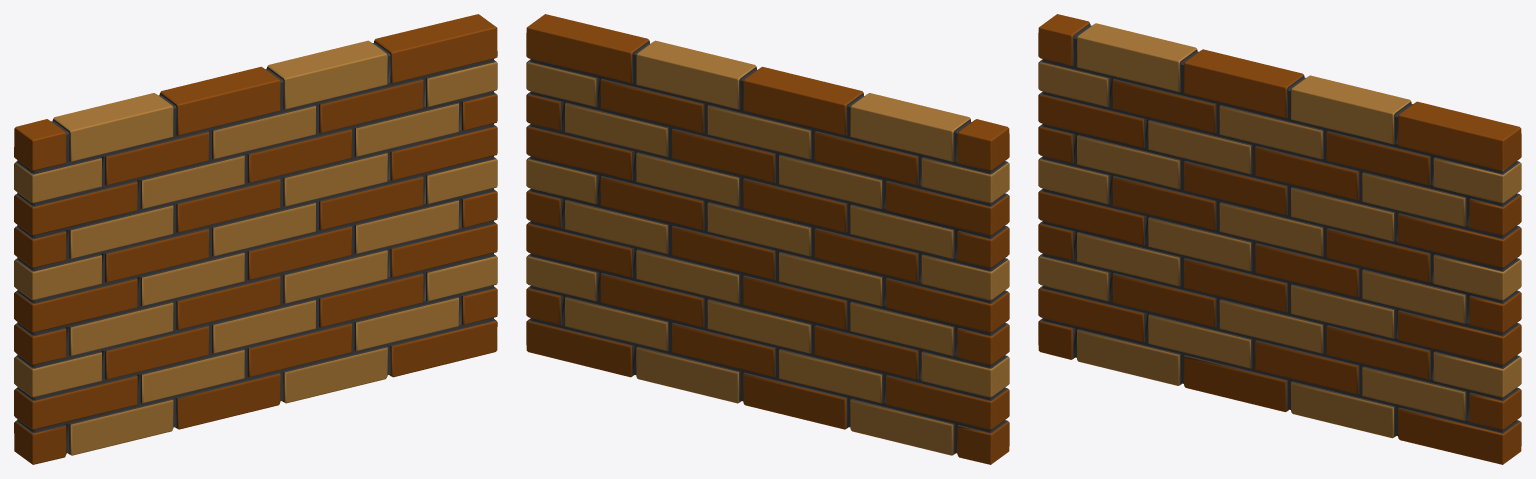
File: WallBrick.FBX
The picture shows the model from 3 angles, left to right: view 1: azimuth 30°, elevation 25°; view 2: azimuth 150°, elevation 25°; view 3: azimuth 330°, elevation 25°; orthographic projection.
Visible parts, largest first — view 1: Wall_Brick; view 2: Wall_Brick; view 3: Wall_Brick.
Part boxes in pixels (x1,y1,x2,y2): Wall_Brick: (14, 14, 497, 464); Wall_Brick: (526, 14, 1009, 464); Wall_Brick: (1038, 14, 1521, 464).
Bounding box in the file's own units: 3014 × 2014 × 220.
